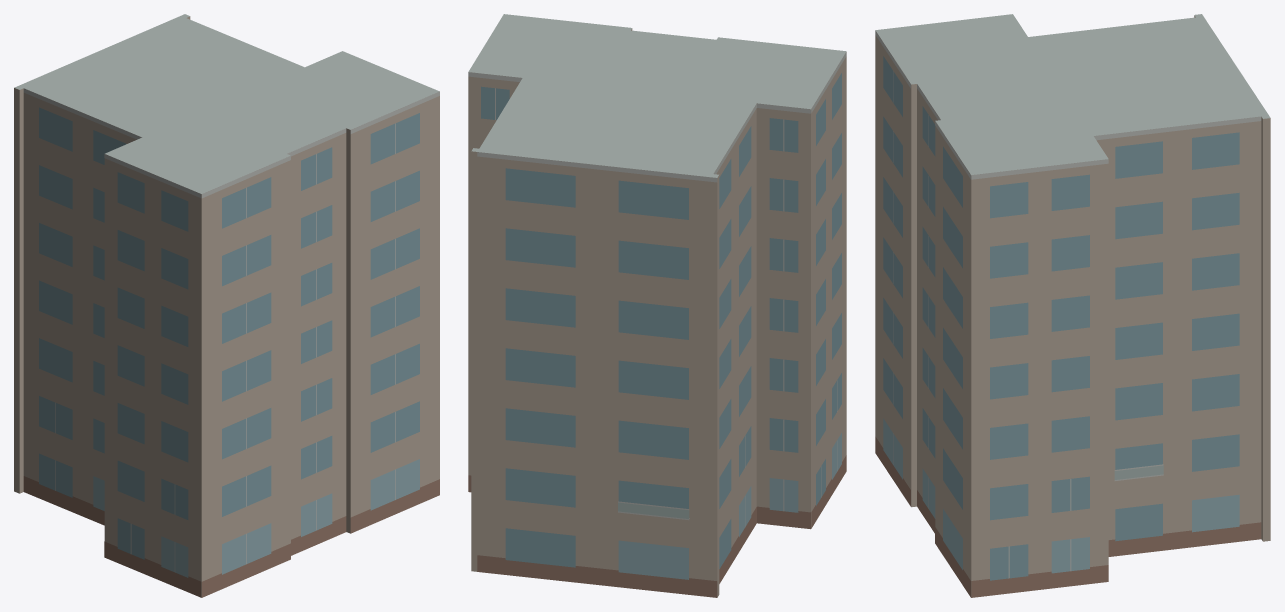
The model's file is survey-upis-32756381.glb.
3 renders of one model, left to right at view 1: azimuth 30°, elevation 25°; view 2: azimuth 150°, elevation 25°; view 3: azimuth 270°, elevation 25°, orthographic. The views are drawn at different scales.
Parts seen in each view (by area): view 1: survey-upis-32756381.tmp; view 2: survey-upis-32756381.tmp; view 3: survey-upis-32756381.tmp.
Part boxes in pixels (x1,y1,x2,y2): survey-upis-32756381.tmp: (14,14,439,597); survey-upis-32756381.tmp: (468,14,846,597); survey-upis-32756381.tmp: (875,14,1270,597).
Bounding box in the file's own units: 18.49 × 22.6 × 19.16.
